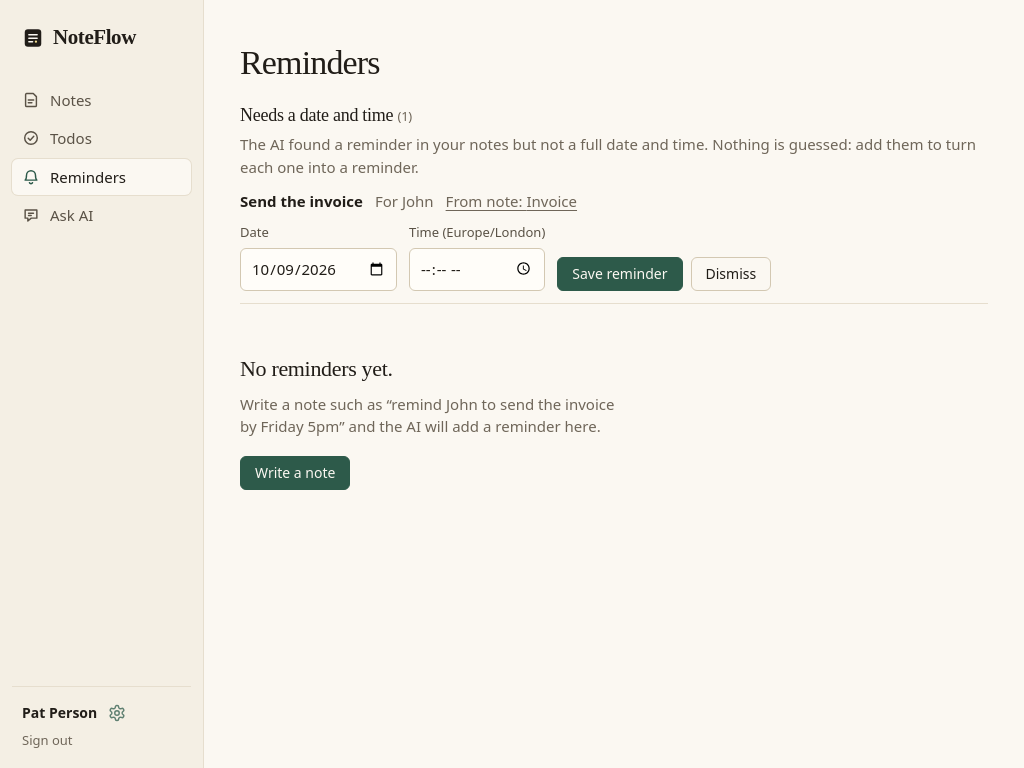
Test: reminders that still need a date and time › will not submit without a time, and sends nothing to the server
The width and height of the screenshot is (1024, 768).
Click the button "Save reminder": coordinates (620, 274) [557, 257, 682, 291]
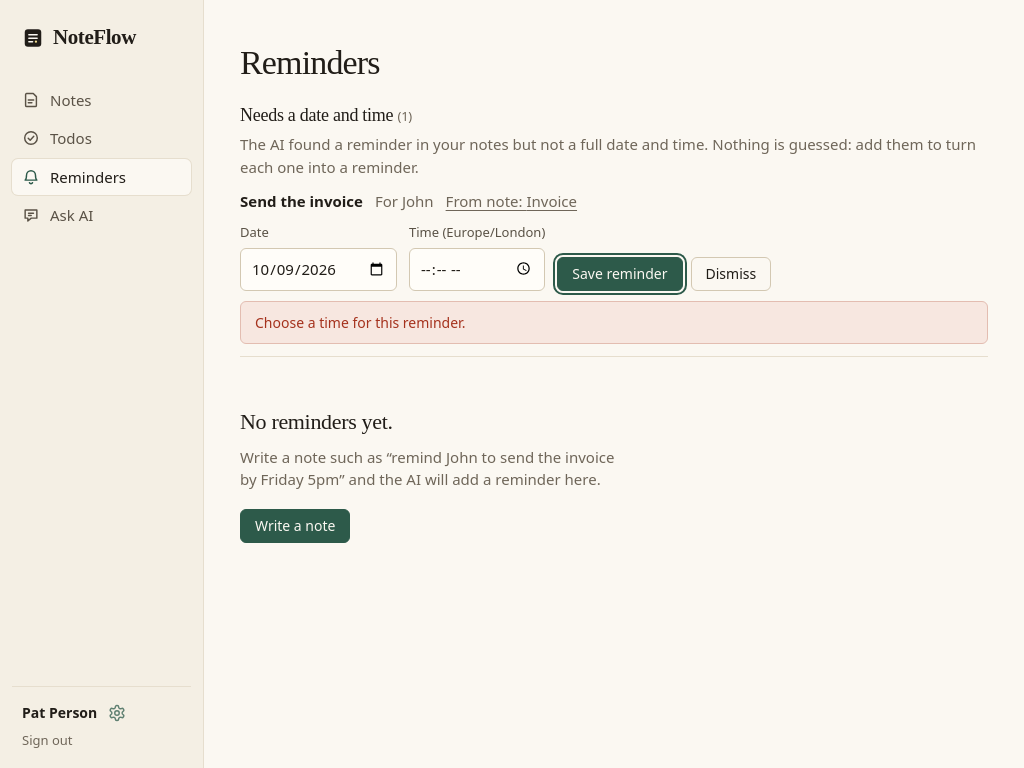
Check: the message shows "Choose a time", box [255, 313, 465, 332]
